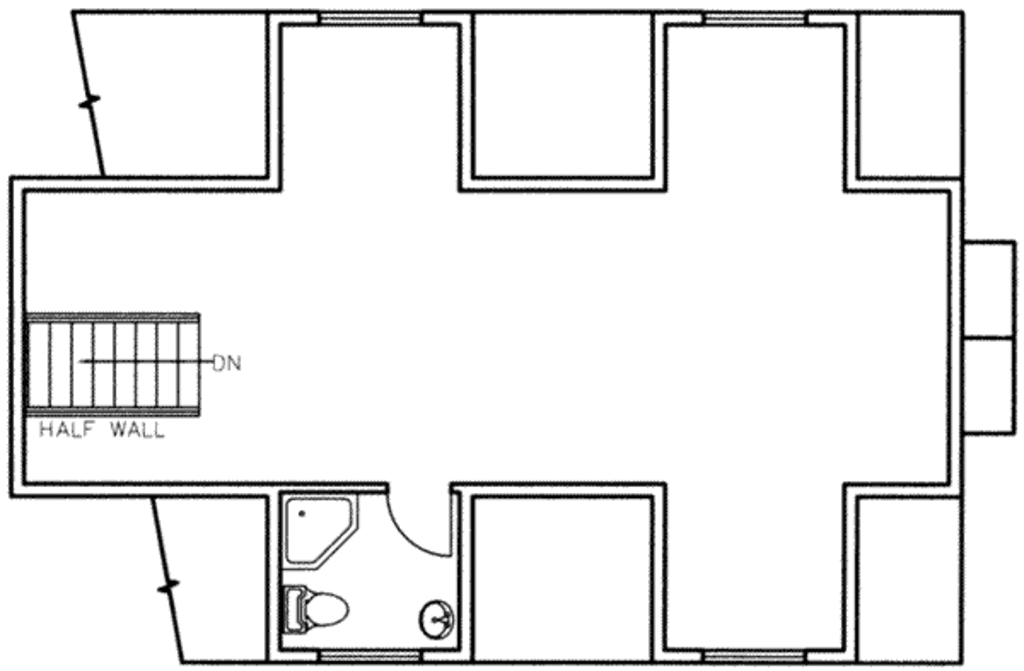door: (376, 486, 456, 563)
large_sink: (278, 575, 359, 641)
small_sink: (412, 589, 454, 643)
stairs: (22, 296, 229, 448)
window: (700, 644, 815, 670), (705, 8, 806, 29), (318, 8, 419, 28), (315, 647, 426, 662)
